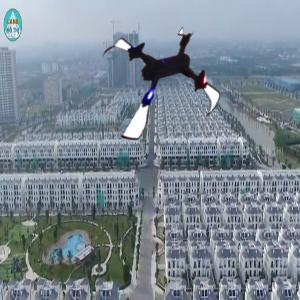drone: (95, 19, 227, 151)
